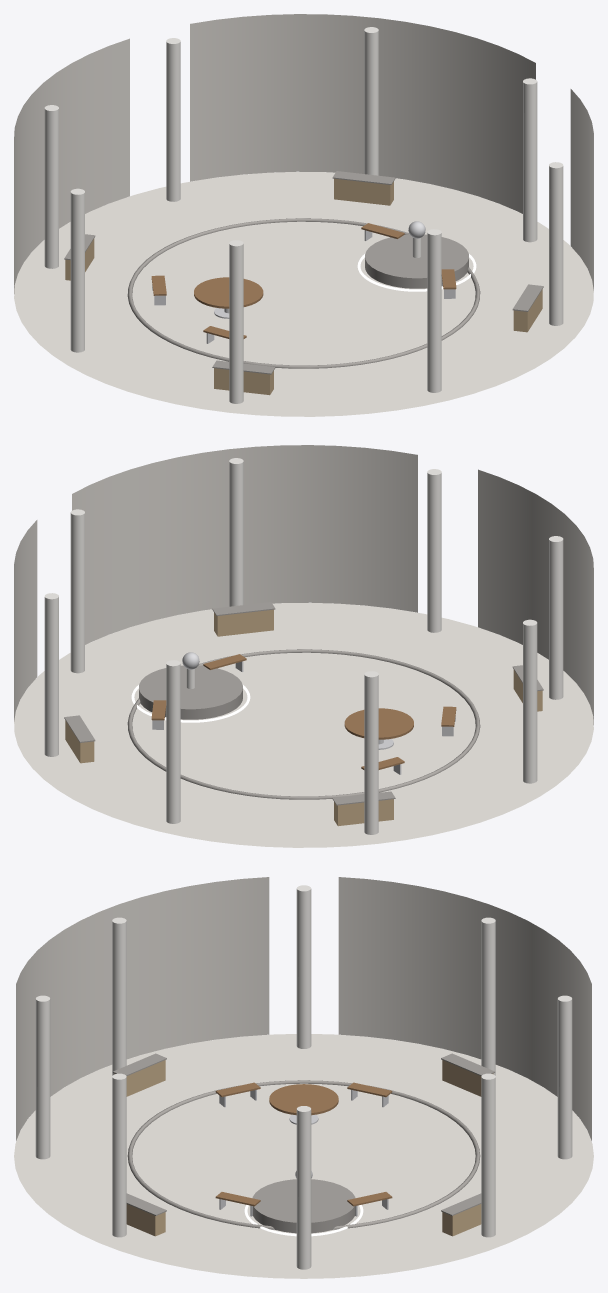
Rendered from atrium.gltf.
3 renders of one model, top to bottom at view 1: azimuth 30°, elevation 25°; view 2: azimuth 150°, elevation 25°; view 3: azimuth 270°, elevation 25°, orthographic.
Visible parts, largest first — view 1: Floor, WallSegment-4, WallSegment-3, WallSegment-1, Fountain-Basin, FloorAccent, Column-1, Column-5, Column-2, Column-3, Column-4, Column-6 (+6 smaller); view 2: Floor, WallSegment-1, WallSegment-2, WallSegment-4, Fountain-Basin, FloorAccent, Column-1, Column-5, Column-3, Column-4, Column-6, Column-7 (+6 smaller); view 3: Floor, WallSegment-2, WallSegment-3, Fountain-Basin, FloorAccent, Column-3, Column-7, Column-1, Column-5, Column-2, Column-8, Column-4 (+6 smaller).
Boxes of the visible parts, x1,y1,x2,y2 form: Floor: (14, 172, 593, 416); WallSegment-4: (190, 14, 535, 213); WallSegment-3: (14, 38, 129, 293); WallSegment-1: (570, 89, 593, 290); Fountain-Basin: (365, 234, 468, 288); FloorAccent: (127, 218, 480, 368); Column-1: (523, 78, 537, 242); Column-5: (70, 188, 84, 352); Column-2: (549, 162, 563, 325); Column-3: (427, 229, 441, 392); Column-4: (229, 240, 243, 403); Column-6: (44, 105, 58, 268); Floor: (14, 603, 593, 847); WallSegment-1: (72, 445, 417, 644); WallSegment-2: (478, 469, 593, 724); WallSegment-4: (14, 520, 37, 721); Fountain-Basin: (139, 665, 242, 719); FloorAccent: (127, 649, 480, 799); Column-1: (70, 509, 84, 673); Column-5: (523, 619, 537, 783); Column-3: (427, 469, 441, 632); Column-4: (549, 536, 563, 699); Column-6: (364, 671, 378, 834); Column-7: (166, 660, 180, 823); Floor: (14, 1034, 593, 1278); WallSegment-2: (16, 877, 269, 1140); WallSegment-3: (338, 877, 591, 1140); Fountain-Basin: (252, 1179, 355, 1233); FloorAccent: (127, 1080, 480, 1229); Column-3: (35, 995, 50, 1159); Column-7: (557, 995, 572, 1159); Column-1: (296, 1106, 311, 1269); Column-5: (296, 885, 311, 1048); Column-2: (112, 1073, 126, 1237); Column-8: (481, 1073, 495, 1237); Column-4: (112, 917, 126, 1075).
Bounding box in the file's own units: 20 × 6.07 × 20.
